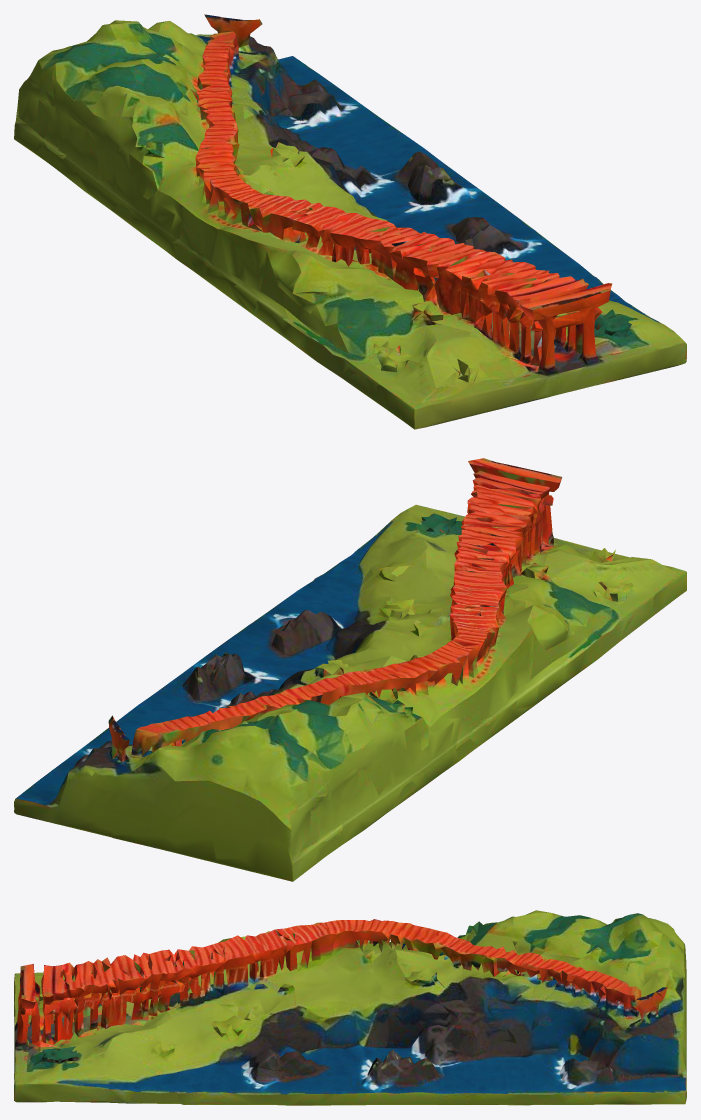
Rendered from motonosumi-shrine.glb.
3 views of the same model, one above another, from view 1: azimuth 30°, elevation 25°; view 2: azimuth 150°, elevation 25°; view 3: azimuth 270°, elevation 25° (orthographic). The views are drawn at different scales.
Visible parts, largest first — view 1: logan-textured.obj; view 2: logan-textured.obj; view 3: logan-textured.obj.
Boxes of the visible parts, x1=… form: logan-textured.obj: x1=14, y1=14, x2=686, y2=429; logan-textured.obj: x1=14, y1=458, x2=686, y2=881; logan-textured.obj: x1=14, y1=910, x2=686, y2=1105.
Bounding box in the file's own units: 0.4147 × 0.1659 × 1.
1 material, 1 textured.
